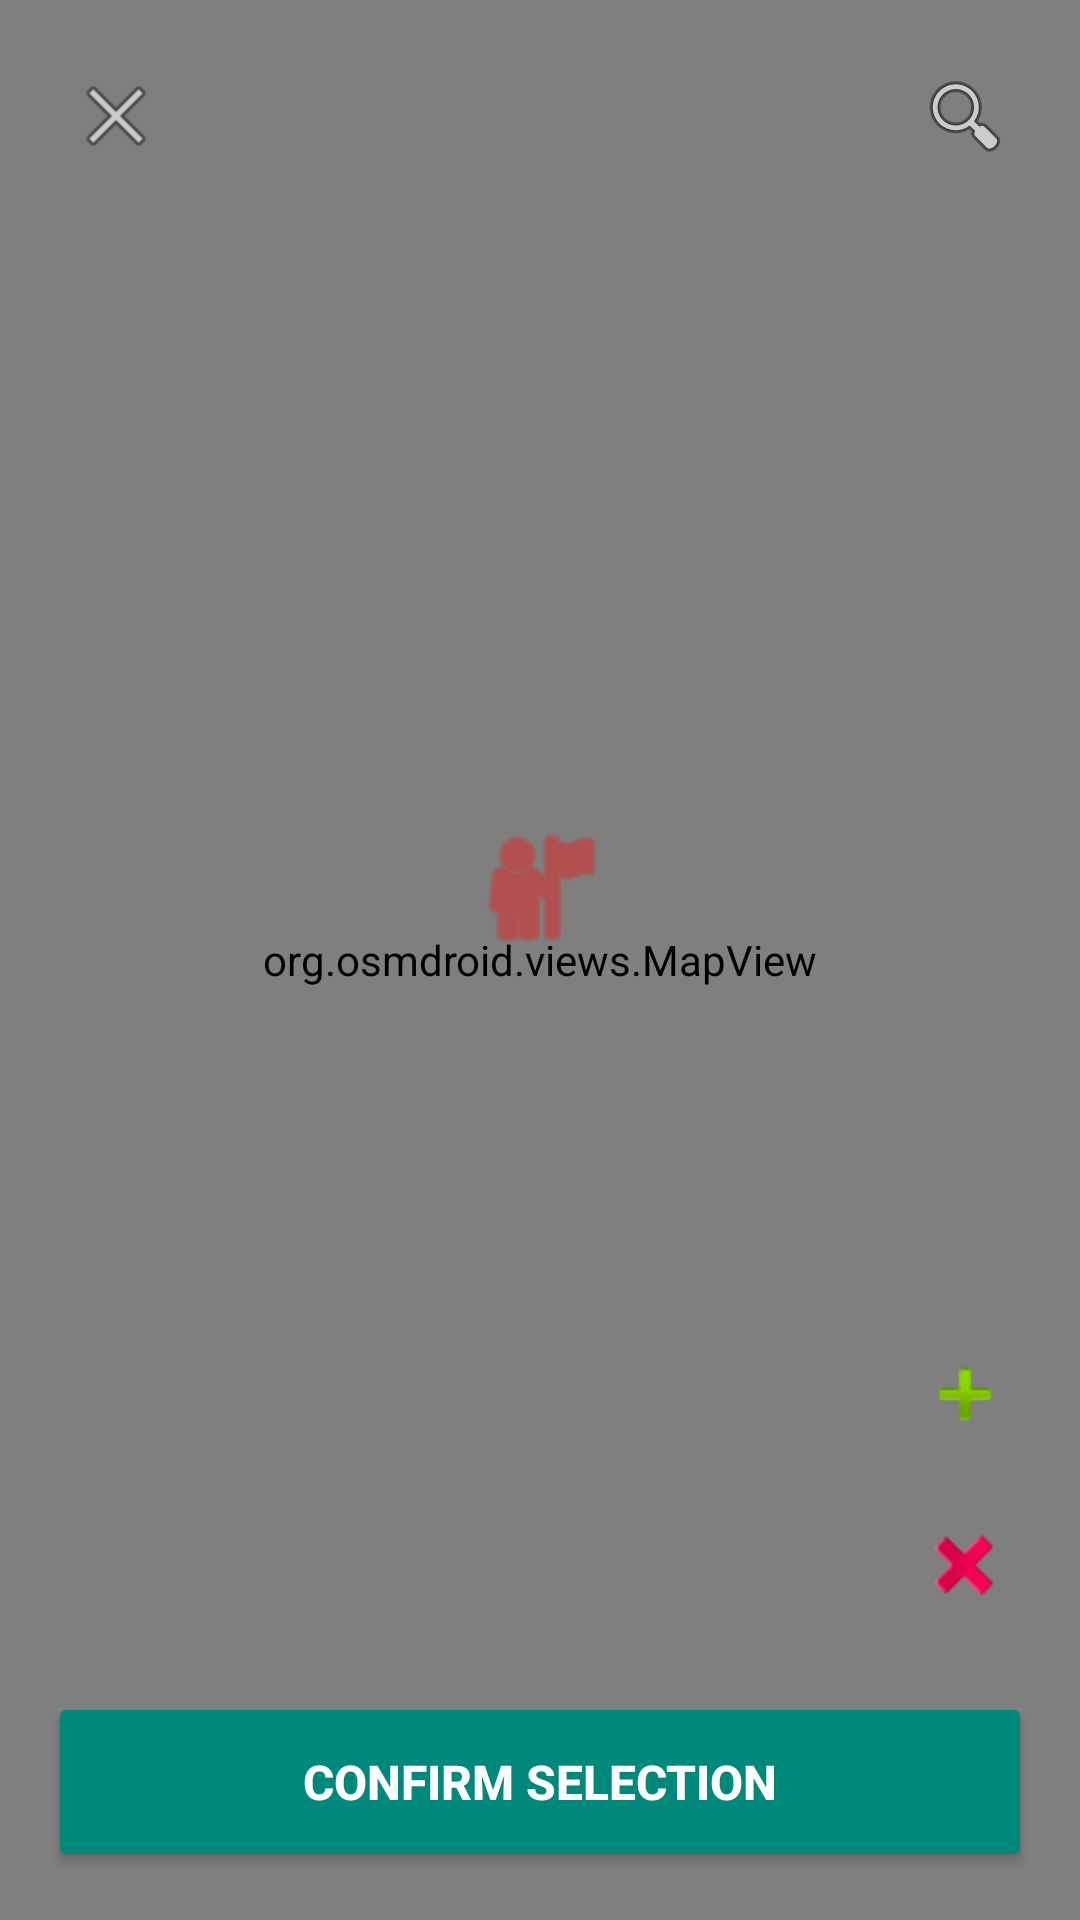

Where icons sit on this 1080w x 1920h app screen, as (x1, y1, x2, y2):
Close: (86, 86, 146, 146)
Search: (930, 81, 1000, 152)
Zoom In: (938, 1367, 992, 1420)
